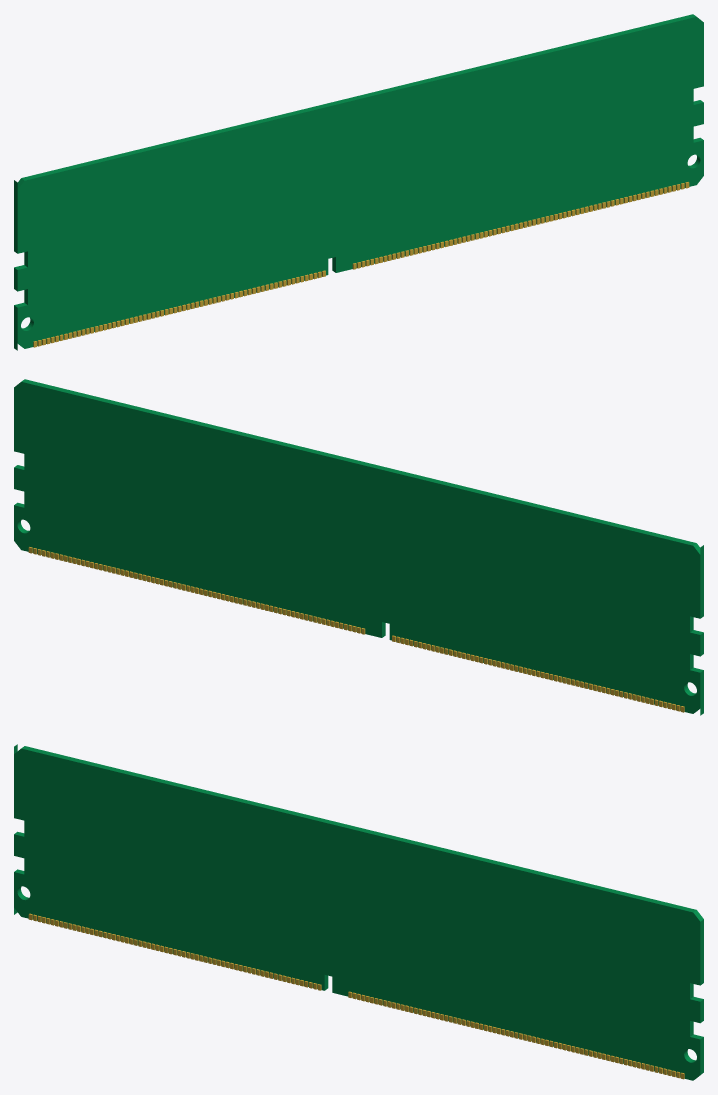
Rendered from DDr4_Generic_DummyRam.glb.
The picture shows the model from 3 angles, top to bottom: view 1: azimuth 30°, elevation 25°; view 2: azimuth 150°, elevation 25°; view 3: azimuth 330°, elevation 25°; orthographic projection.
Parts seen in each view (by area): view 1: DDR4_Dummy; view 2: DDR4_Dummy; view 3: DDR4_Dummy.
Part boxes in pixels (x1=…): DDR4_Dummy: x1=14, y1=14, x2=703, y2=350; DDR4_Dummy: x1=14, y1=379, x2=703, y2=715; DDR4_Dummy: x1=14, y1=744, x2=703, y2=1080.
Size of the model in its own units: 267 by 62.5 by 3.6.
